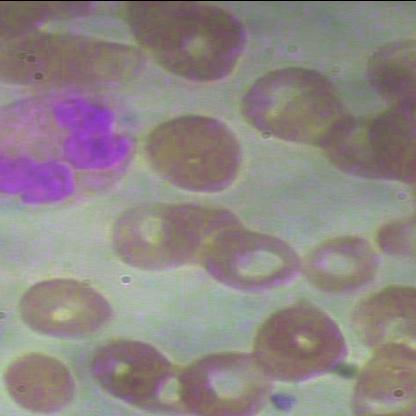Platelets: (268, 387, 298, 412)
RBC: (136, 108, 258, 196), (135, 1, 250, 87), (253, 298, 355, 390), (242, 64, 348, 142), (199, 226, 306, 296), (102, 202, 209, 272), (178, 350, 282, 416), (15, 277, 119, 342), (1, 350, 99, 414), (296, 230, 382, 294)
WBC: (0, 78, 150, 220)
